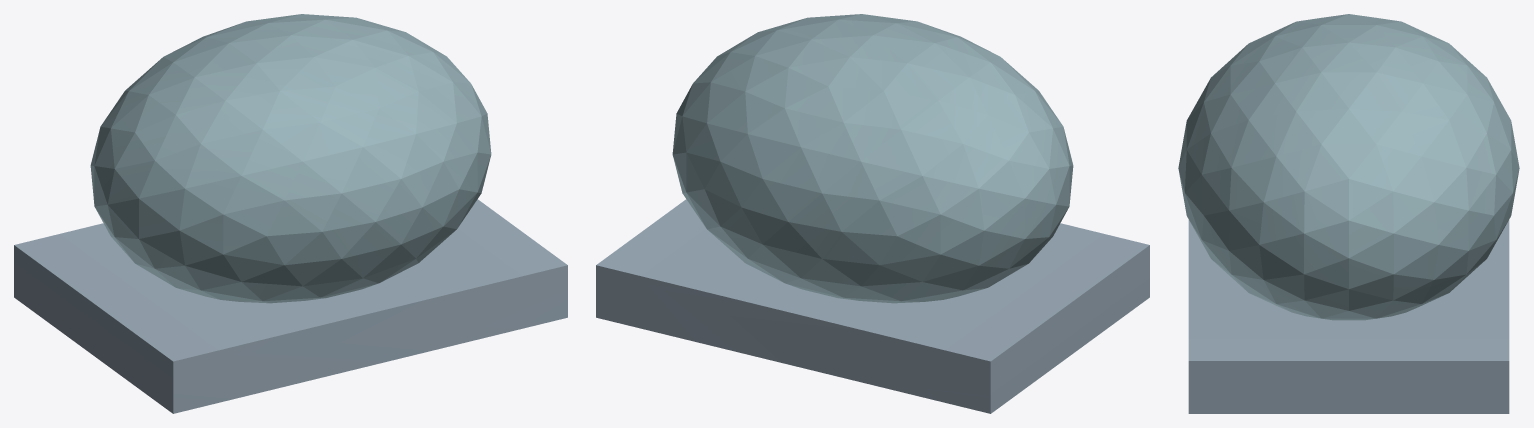
Rendered from stadium-06.glb.
The picture shows the model from 3 angles, left to right: view 1: azimuth 30°, elevation 25°; view 2: azimuth 150°, elevation 25°; view 3: azimuth 270°, elevation 25°; orthographic projection.
Visible parts, largest first — view 1: world; view 2: world; view 3: world.
Part boxes in pixels (x1,y1,x2,y2): world: (14, 14, 567, 413); world: (596, 14, 1149, 413); world: (1178, 14, 1519, 413).
Size of the model in its own units: 1.58 by 1.04 by 1.17.
